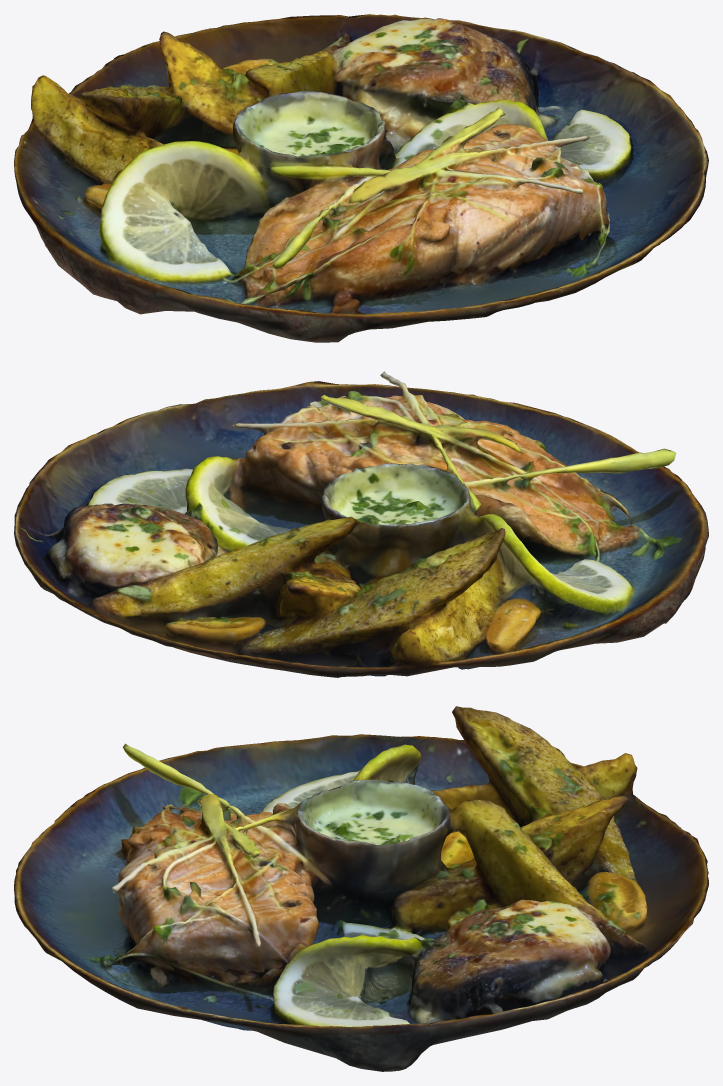
Rendered from pave-de-saumon.ar.glb.
3 renders of one model, top to bottom at view 1: azimuth 30°, elevation 25°; view 2: azimuth 150°, elevation 25°; view 3: azimuth 270°, elevation 25°, orthographic.
Visible parts, largest first — view 1: /ObjectCapture/Geometry/Mesh; view 2: /ObjectCapture/Geometry/Mesh; view 3: /ObjectCapture/Geometry/Mesh.
Boxes of the visible parts, box(x1,y1,x2,y2) form: /ObjectCapture/Geometry/Mesh: box(14, 14, 708, 342); /ObjectCapture/Geometry/Mesh: box(14, 371, 708, 677); /ObjectCapture/Geometry/Mesh: box(14, 706, 708, 1071).
Size of the model in its own units: 0.2728 by 0.0545 by 0.2699.
1 material, 1 textured.
